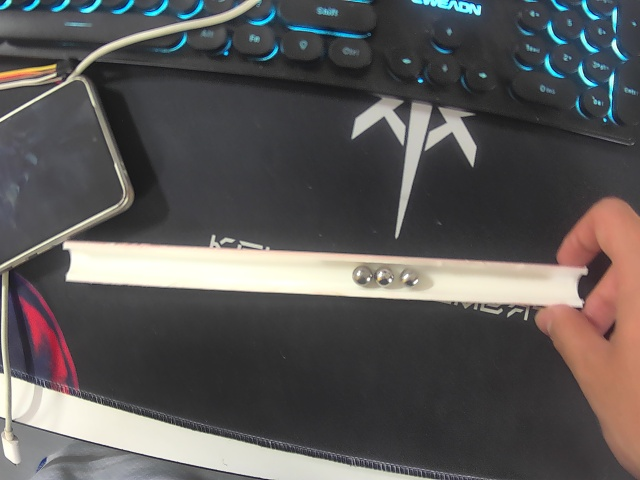steelball: (352, 265, 373, 286), (399, 268, 420, 289), (374, 266, 394, 287)
